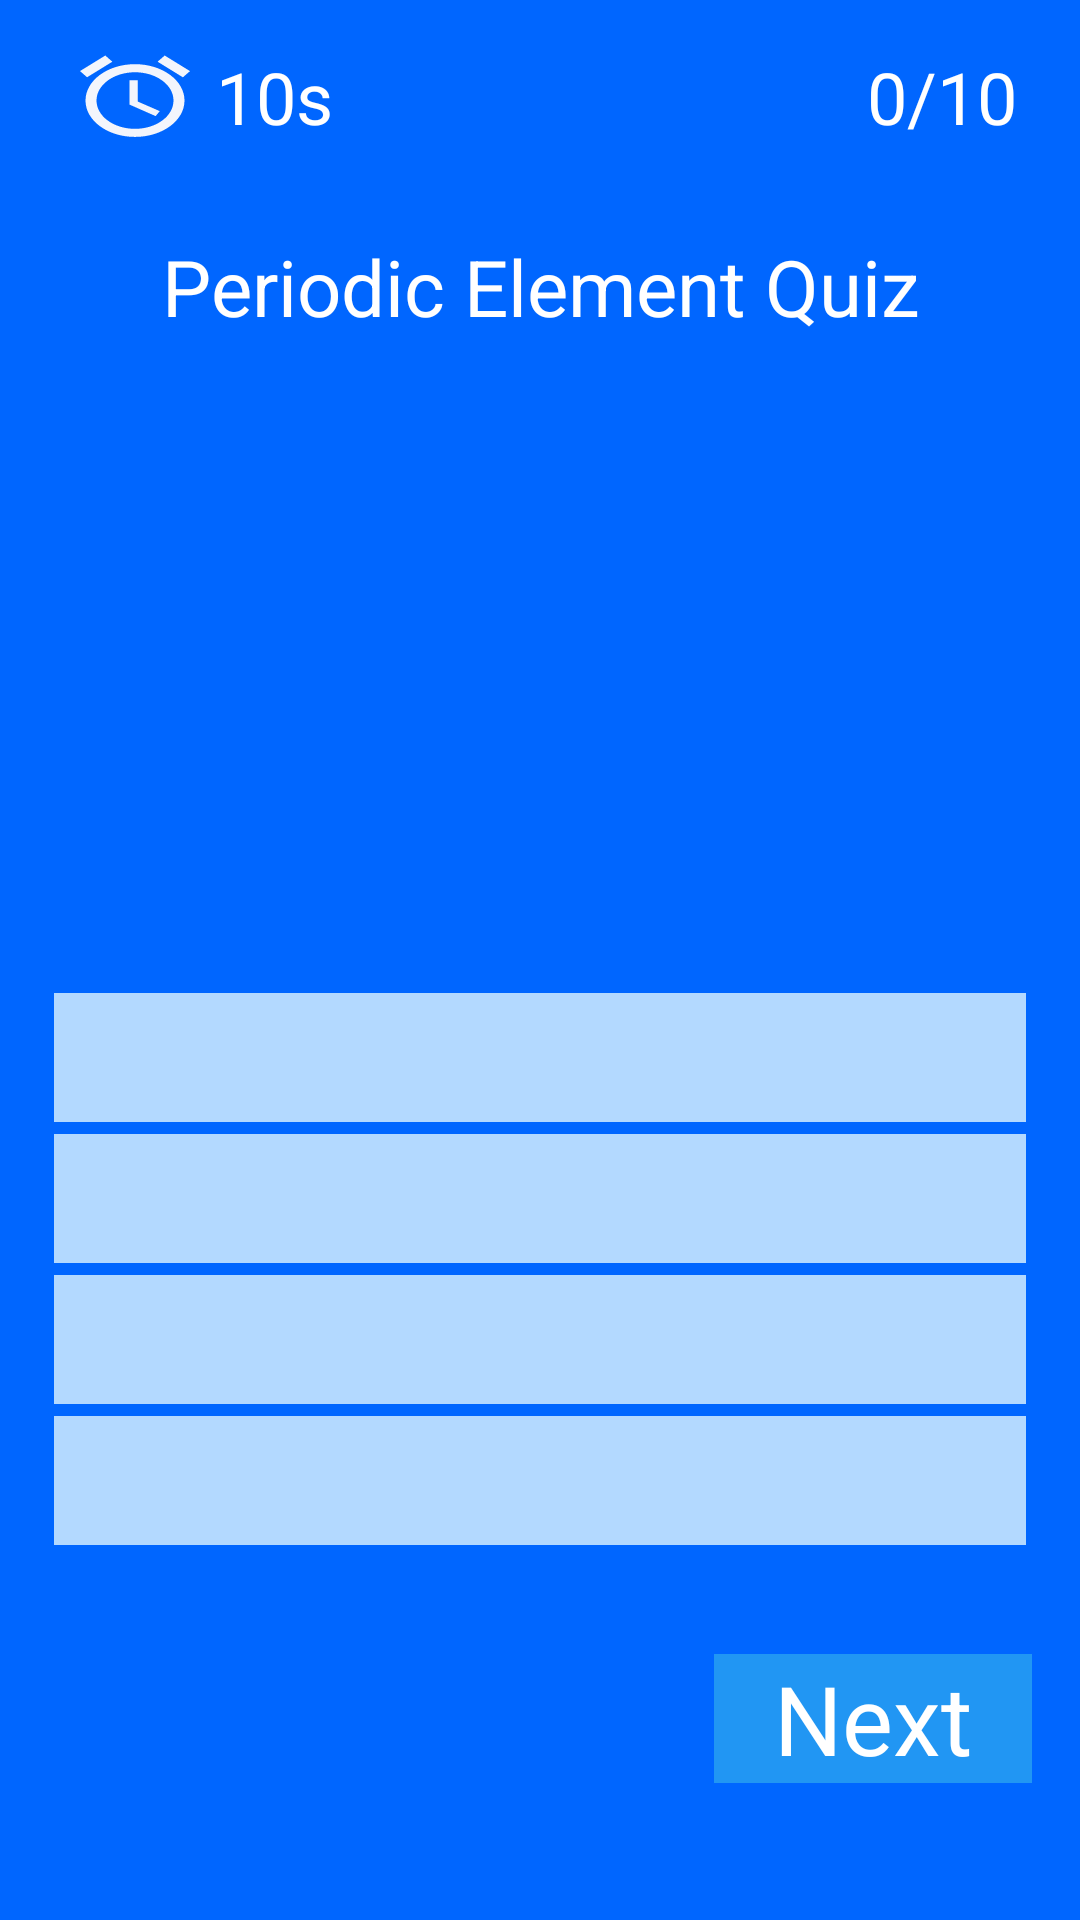

Icon bounding boxes for this 1080w x 1920h phone screenshot, format [x1,y1,x2,y2]:
access alarm: [80,55,190,137]
